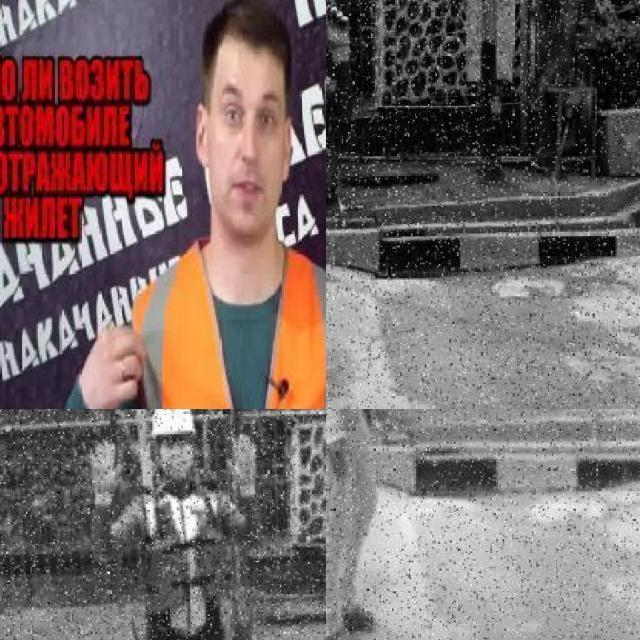apron: (86, 438, 125, 508), (226, 432, 260, 498), (326, 0, 353, 71)
